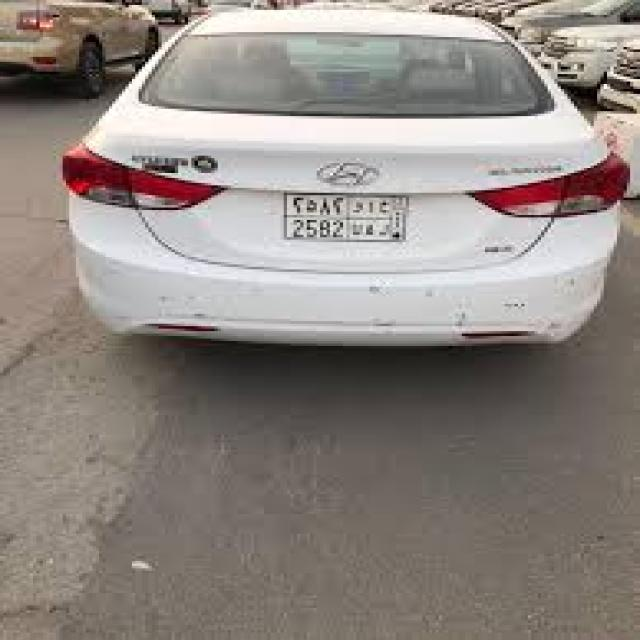license_plate: (280, 188, 416, 247)
